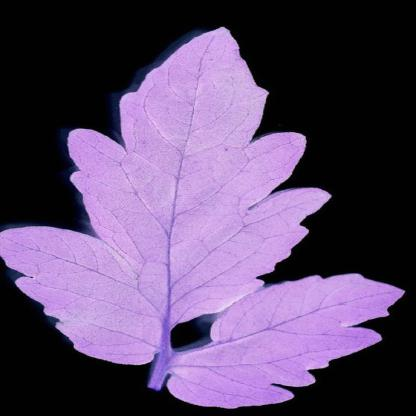Tomato leaf: (7, 16, 302, 368), (170, 267, 409, 403)
